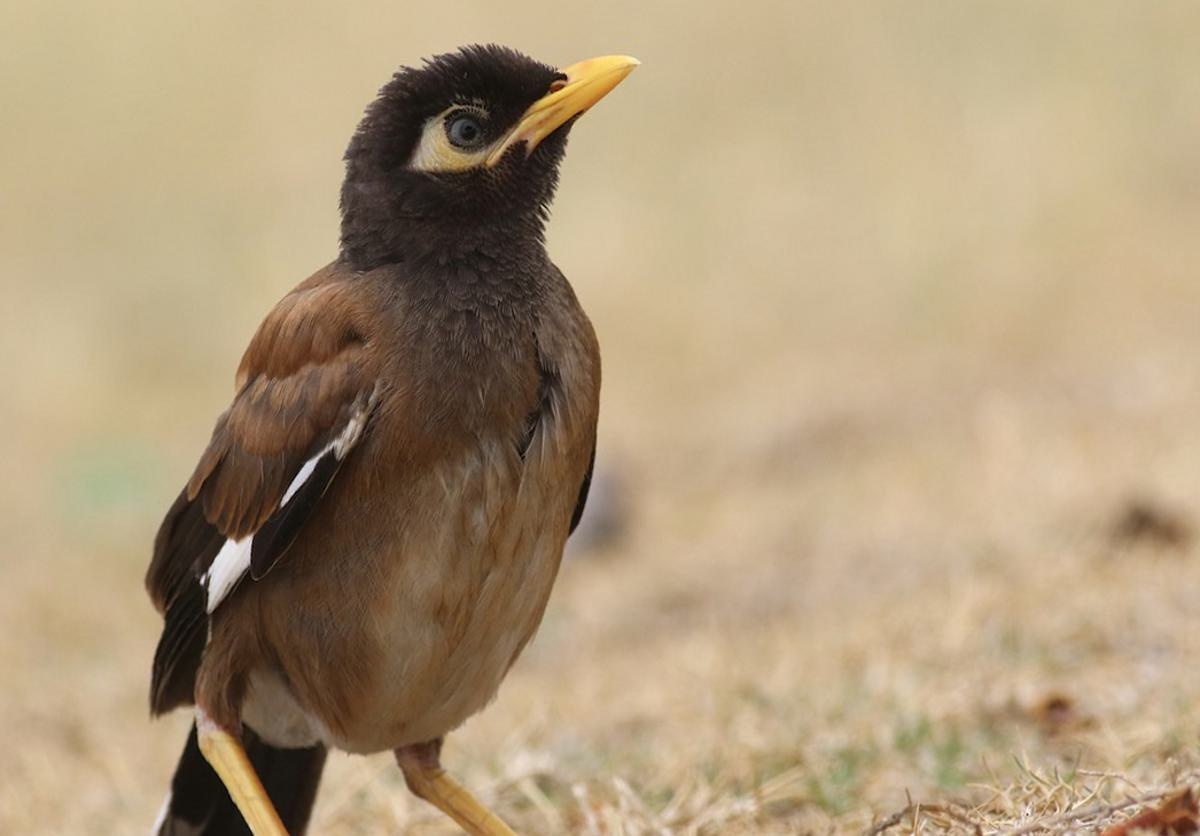myna: (183, 46, 663, 762)
